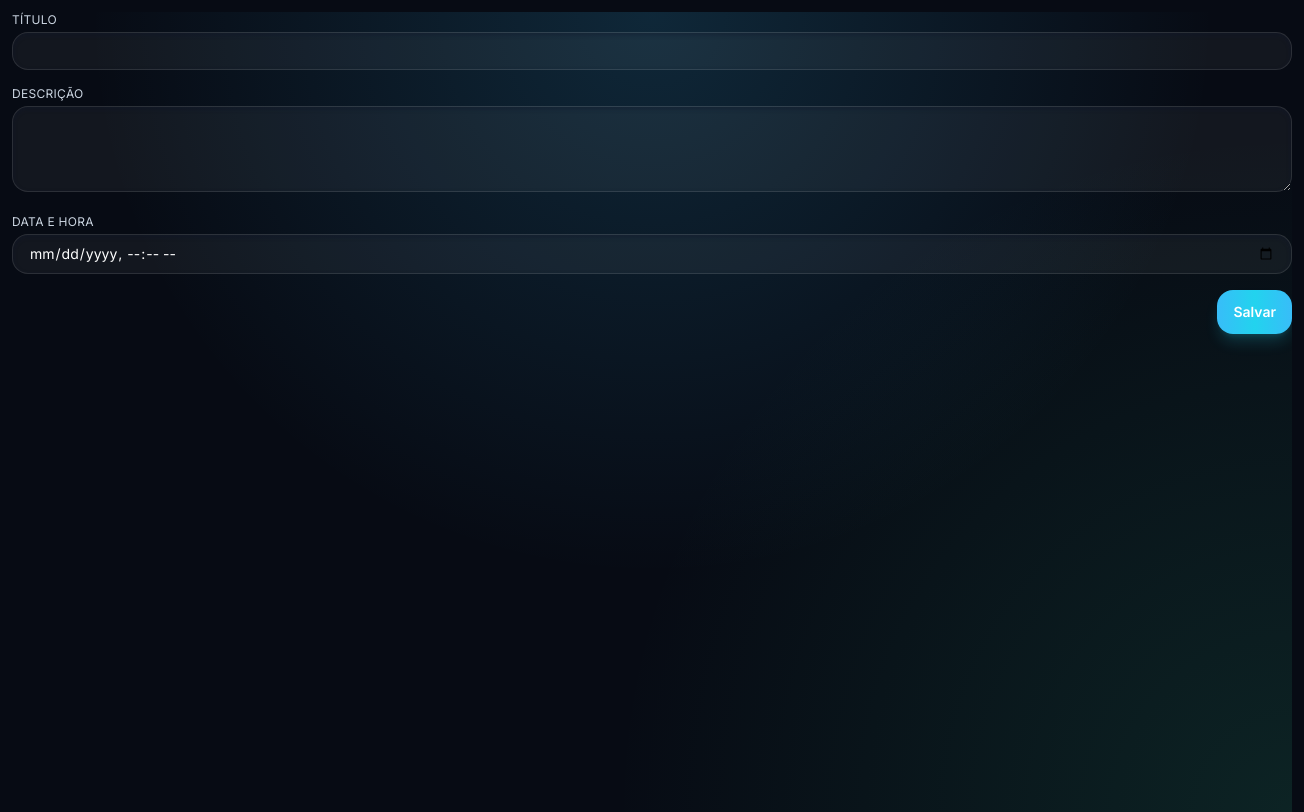
Test case: ReminderForm › prevents submission when reminder datetime is in the past
Type "Consulta médica" into the field labelled "Título" at (652, 51), box [12, 32, 1292, 70]
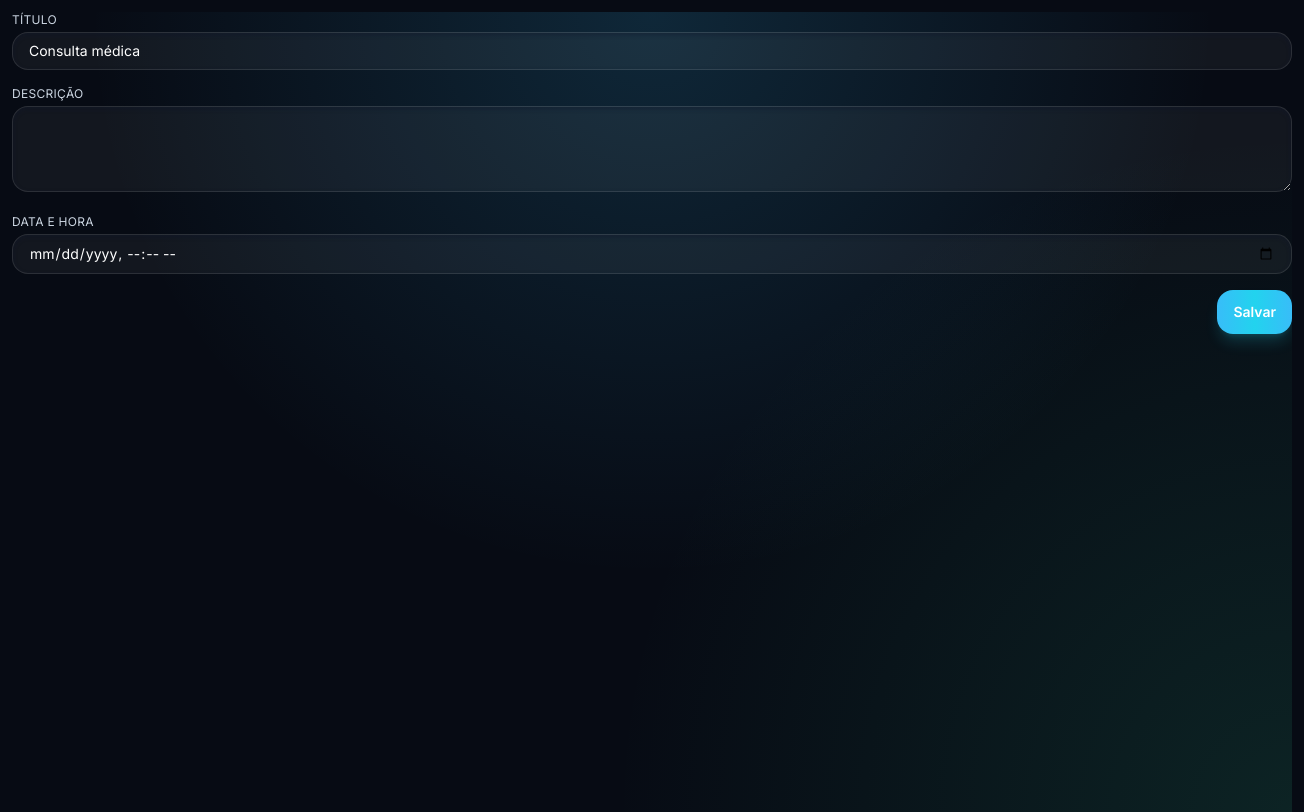
Type "2024-01-10T10:00" into the field labelled "Data e hora" at (652, 254), box [12, 234, 1292, 274]
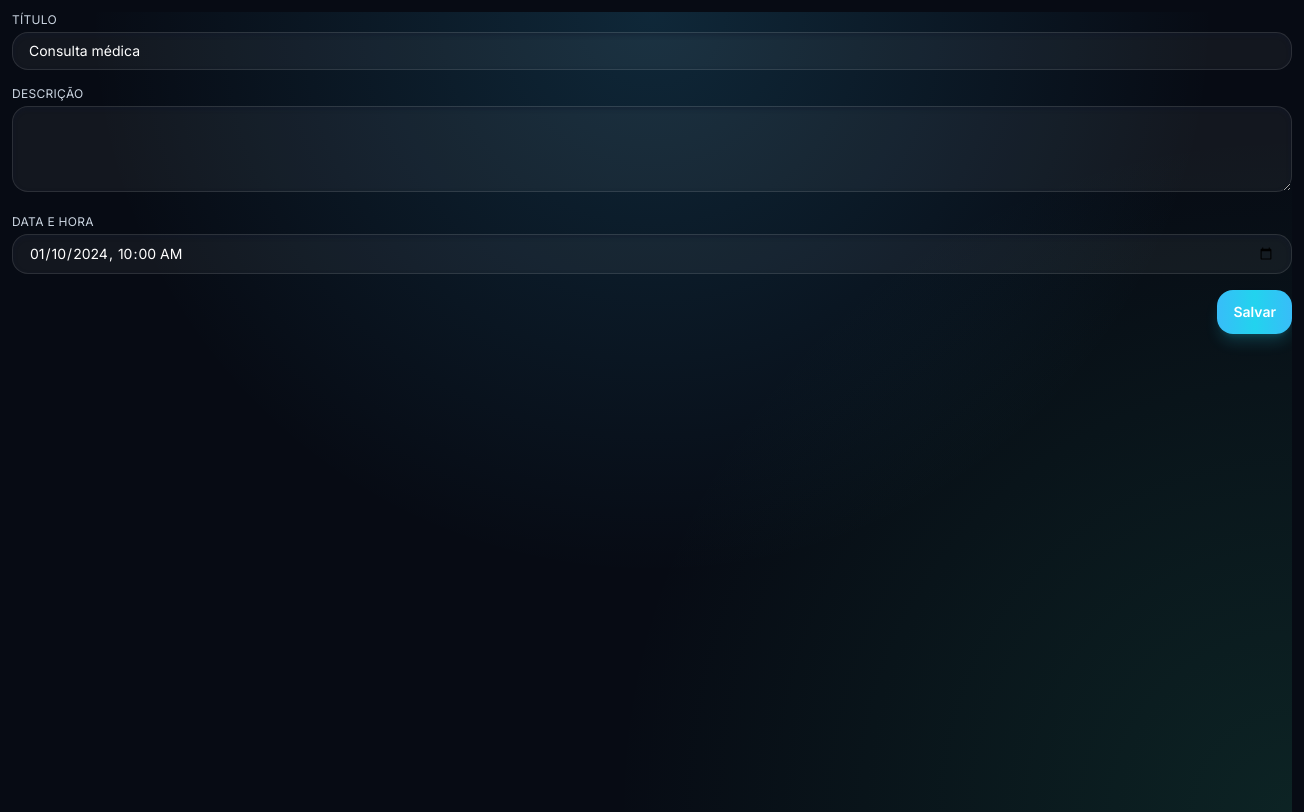
Click the button "Salvar" at (1255, 312), box [1217, 290, 1292, 334]
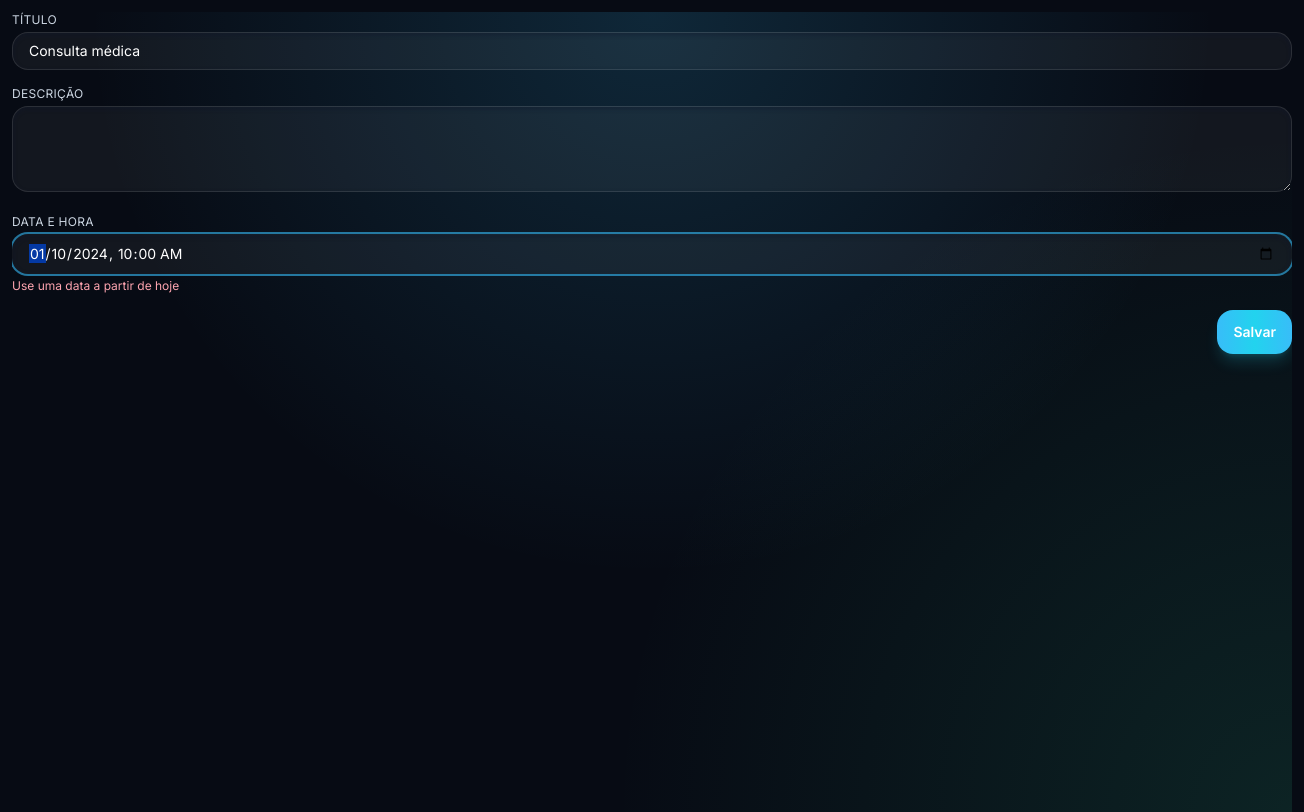
Expected: the text "Use uma data a partir de hoje" is shown, [12, 278, 179, 293]
